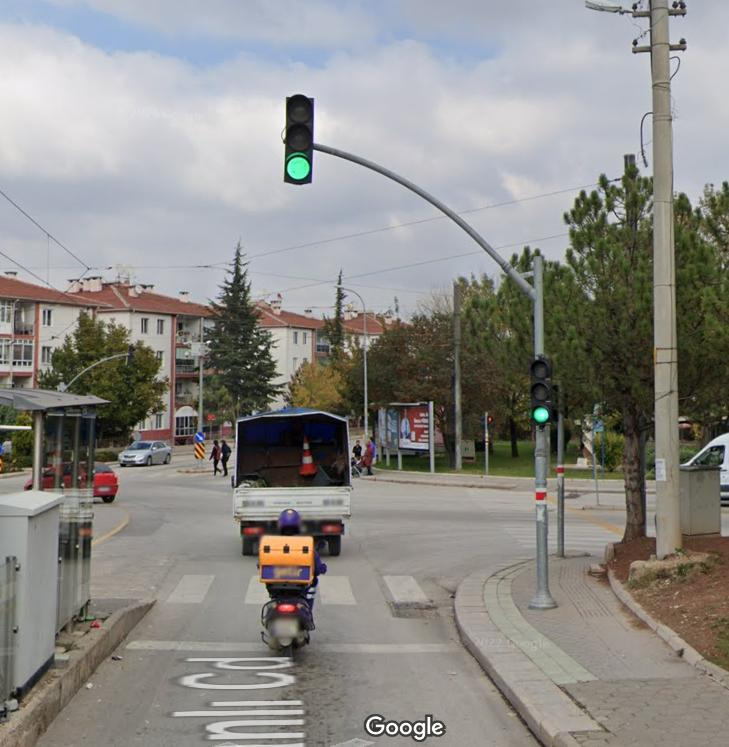greenlight: (286, 95, 311, 184), (529, 359, 553, 425)
